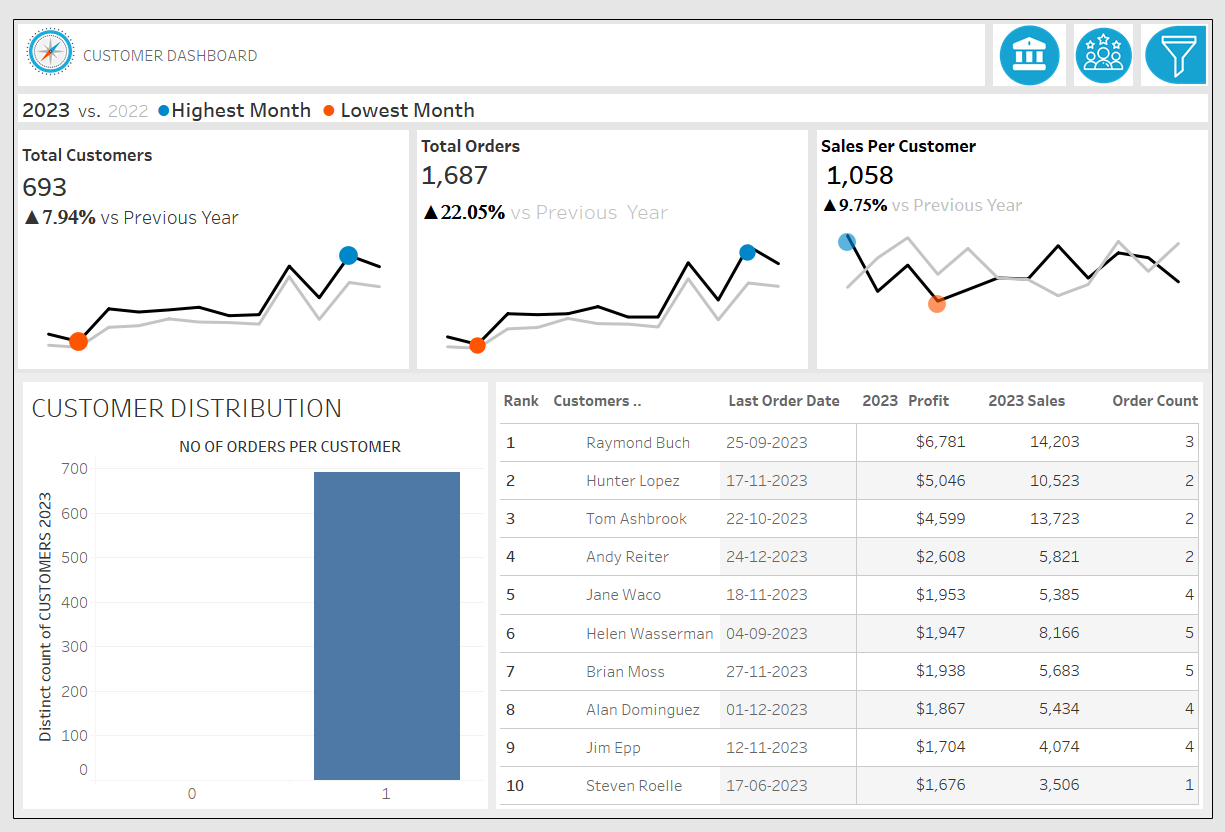

Layout of this report page (visuals, bound fields, positions):
{"tool":"tableau","page":{"name":"CUSTOMERS DASHBOARD","canvas":[1200,800],"ordinal":0},"visuals":[{"type":"text","box":[1,1,975,69.8]},{"type":"dashboard-object","box":[976,1,81,69.8]},{"type":"dashboard-object","box":[1057,1,67,69.8]},{"type":"dashboard-object","box":[1124,1,75,69.8]},{"type":"image","param":"C:/Users/Nikhil/Downloads/Tableau/Project/TableauProject-SalesDashboard/Icons/Ic","box":[7,7,60,51]},{"type":"worksheet","title":"Legends KPI","mark":"Automatic","box":[1,70.8,1198,35.9]},{"type":"text","box":[929,77,263,26]},{"type":"parameter","param":"[Parameters].[Parameter 1]","box":[929,103,263,56]},{"type":"worksheet","title":"KPI CUSTOMER","mark":"Line","rows":["MIN/MAX SALES (copy)_1933733122484391941"],"cols":["Order Date"],"box":[1,106.7,399.3,247.3]},{"type":"worksheet","title":"KPI ORDERS","mark":"Automatic","rows":["MIN/MAX SALES (copy)_614741381743366150"],"cols":["Order Date"],"box":[400.3,106.7,399.3,247.3]},{"type":"worksheet","title":"KPI SALES PER CUSTOMER","mark":"Line","rows":["MIN/MAX SALES PER CUSTOMER (copy)_794885367433113618"],"cols":["Order Date"],"box":[799.7,106.7,399.3,247.3]},{"type":"text","box":[929,159,263,29]},{"type":"filter","title":"KPI CUSTOMER","param":"[federated.0zvdc4p1axqru71eylflu0l8y2dp].[none:Category:nk]","box":[929,188,263,61]},{"type":"filter","title":"KPI CUSTOMER","param":"[federated.0zvdc4p1axqru71eylflu0l8y2dp].[none:Sub-Category:nk]","box":[929,249,263,61]},{"type":"text","box":[929,310,263,29]},{"type":"filter","title":"KPI CUSTOMER","param":"[federated.0zvdc4p1axqru71eylflu0l8y2dp].[none:Country/Region:nk]","box":[929,339,263,61]},{"type":"worksheet","title":"CUSTOMER DISTRIBUTION","mark":"Bar","rows":["CUSTOMERS 2022 (copy)_1933733122464391169"],"cols":["Calculation_1933733122469031938"],"box":[10,363,465,427]},{"type":"text","box":[483,363,50,37]},{"type":"text","box":[533,363,175,37]},{"type":"text","box":[708,363,134,37]},{"type":"text","box":[842,363,126,37]},{"type":"text","box":[968,363,124,37]},{"type":"text","box":[1092,363,98,37]},{"type":"worksheet","title":"Top Customers","mark":"Automatic","rows":["Calculation_794885367393443852","Customer Name","Order Date"],"box":[483,400,707,390]},{"type":"filter","title":"KPI CUSTOMER","param":"[federated.0zvdc4p1axqru71eylflu0l8y2dp].[none:Region:nk]","box":[929,400,263,61]},{"type":"filter","title":"KPI CUSTOMER","param":"[federated.0zvdc4p1axqru71eylflu0l8y2dp].[none:City:nk]","box":[929,461,263,61]},{"type":"filter","title":"CUSTOMER DISTRIBUTION","param":"[federated.0zvdc4p1axqru71eylflu0l8y2dp].[none:Calculation_1933733122469031938:o","box":[929,522,263,105]}]}

Visuals, with their boxes in screenshot pixels (x1, y1, x2, y2), scaled from the page's 1200x800 canvas onto the 1225x832 screenshot:
text: 1 1 996 74
dashboard-object: 996 1 1079 74
dashboard-object: 1079 1 1147 74
dashboard-object: 1147 1 1224 74
image: 7 7 68 60
"Legends KPI" worksheet: 1 74 1224 111
text: 948 80 1217 107
parameter: 948 107 1217 165
"KPI CUSTOMER" worksheet (Line marks): 1 111 409 368
"KPI ORDERS" worksheet: 409 111 816 368
"KPI SALES PER CUSTOMER" worksheet (Line marks): 816 111 1224 368
text: 948 165 1217 196
"KPI CUSTOMER" filter: 948 196 1217 259
"KPI CUSTOMER" filter: 948 259 1217 322
text: 948 322 1217 353
"KPI CUSTOMER" filter: 948 353 1217 416
"CUSTOMER DISTRIBUTION" worksheet (Bar marks): 10 378 485 822
text: 493 378 544 416
text: 544 378 723 416
text: 723 378 860 416
text: 860 378 988 416
text: 988 378 1115 416
text: 1115 378 1215 416
"Top Customers" worksheet: 493 416 1215 822
"KPI CUSTOMER" filter: 948 416 1217 479
"KPI CUSTOMER" filter: 948 479 1217 543
"CUSTOMER DISTRIBUTION" filter: 948 543 1217 652
